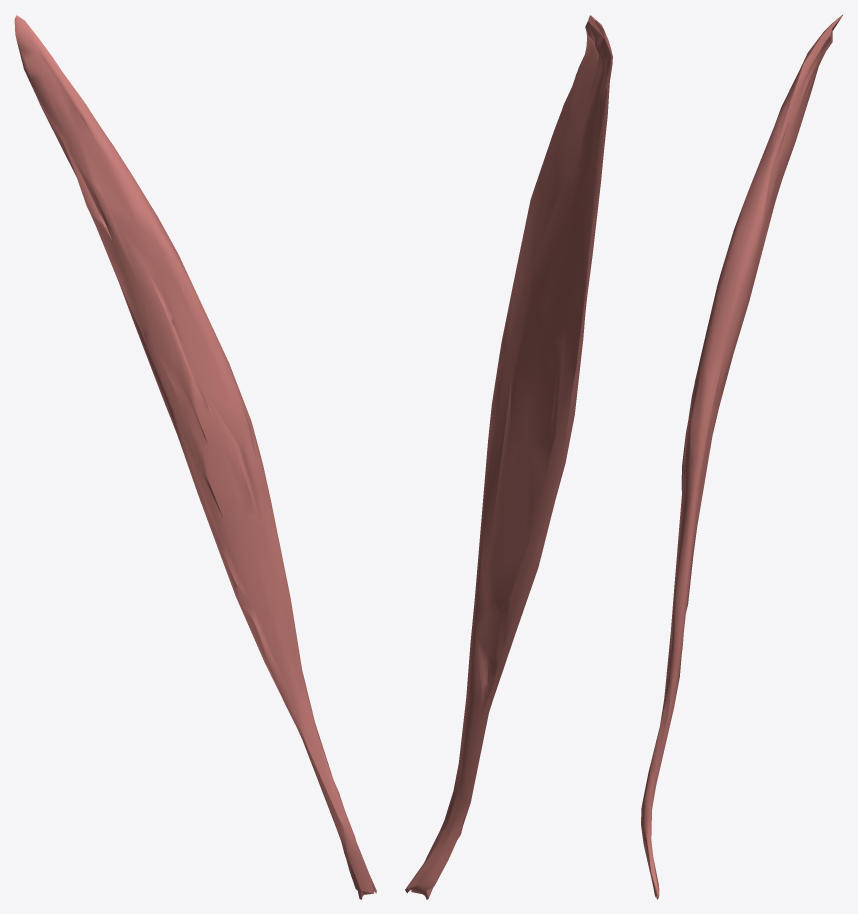
File: fma38461_fj1496m.glb
The picture shows the model from 3 angles, left to right: view 1: azimuth 30°, elevation 25°; view 2: azimuth 150°, elevation 25°; view 3: azimuth 270°, elevation 25°; orthographic projection. The views are drawn at different scales.
Visible parts, largest first — view 1: FMA38461_FJ1496M; view 2: FMA38461_FJ1496M; view 3: FMA38461_FJ1496M.
Boxes of the visible parts, x1=… form: FMA38461_FJ1496M: x1=14, y1=15, x2=376, y2=899; FMA38461_FJ1496M: x1=405, y1=15, x2=612, y2=899; FMA38461_FJ1496M: x1=641, y1=14, x2=843, y2=899.
Size of the model in its own units: 0.0878 by 0.2768 by 0.0655.
